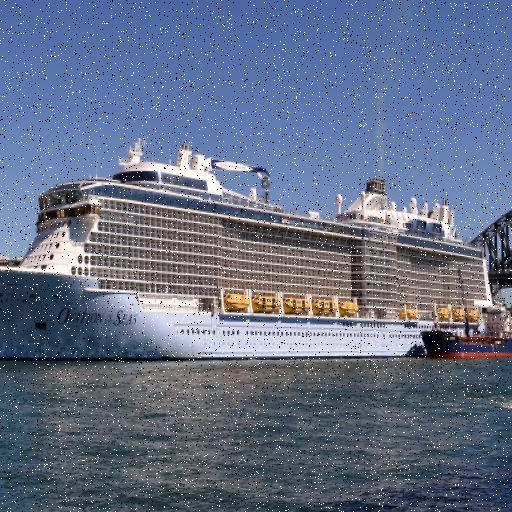cruises: (1, 123, 512, 369)
